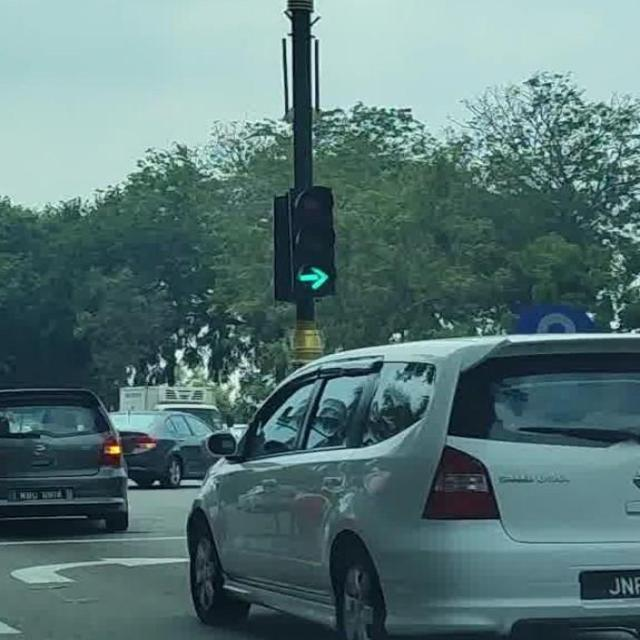green_light: (289, 185, 335, 296)
